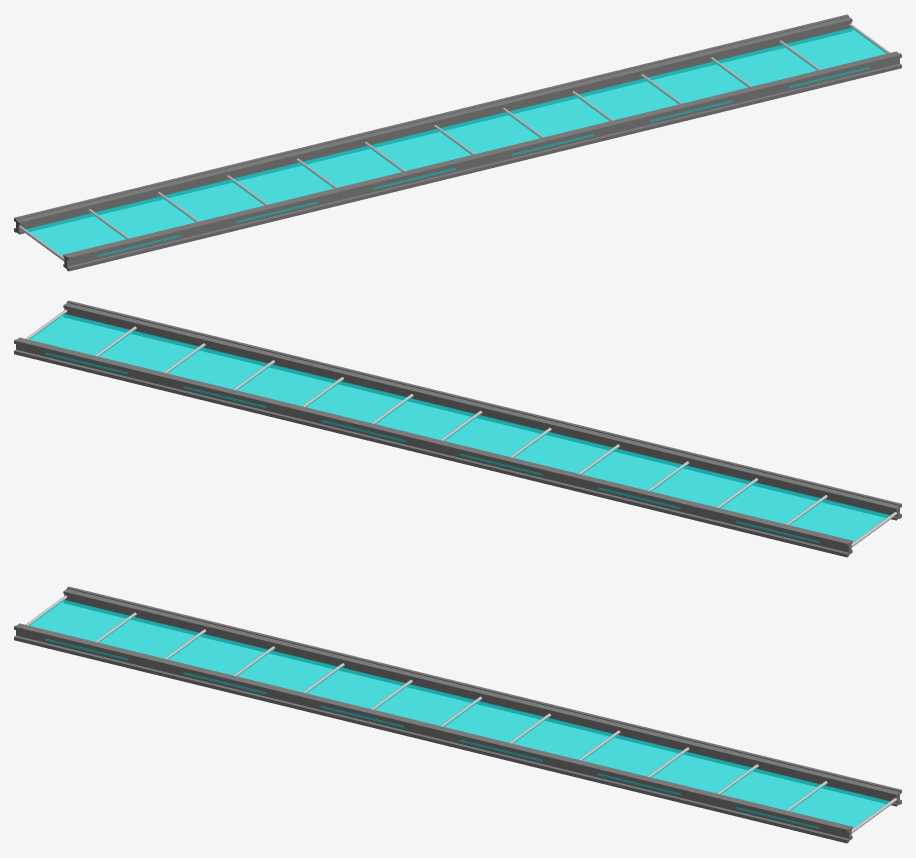
Rendered from longPlatform.fbx.
The picture shows the model from 3 angles, top to bottom: view 1: azimuth 30°, elevation 25°; view 2: azimuth 150°, elevation 25°; view 3: azimuth 330°, elevation 25°; orthographic projection.
Parts seen in each view (by area): view 1: leftEnd (×6), rightEnd (×6), plate2 (×6), plate1 (×6); view 2: rightEnd (×6), leftEnd (×6), plate2 (×6), plate1 (×6); view 3: leftEnd (×6), rightEnd (×6), plate2 (×6), plate1 (×6).
Boxes of the visible parts, box(x1,y1,x2,y2) form: leftEnd (×6): box(63, 51, 901, 271); rightEnd (×6): box(14, 14, 852, 234); plate2 (×6): box(95, 27, 887, 238); plate1 (×6): box(26, 44, 818, 256); rightEnd (×6): box(14, 337, 852, 557); leftEnd (×6): box(63, 300, 901, 520); plate2 (×6): box(28, 313, 820, 524); plate1 (×6): box(97, 330, 890, 542); leftEnd (×6): box(14, 623, 852, 843); rightEnd (×6): box(63, 586, 901, 806); plate2 (×6): box(97, 616, 889, 828); plate1 (×6): box(28, 599, 820, 810).
Bounding box in the file's own units: 84.52 × 1.33 × 9.63.
